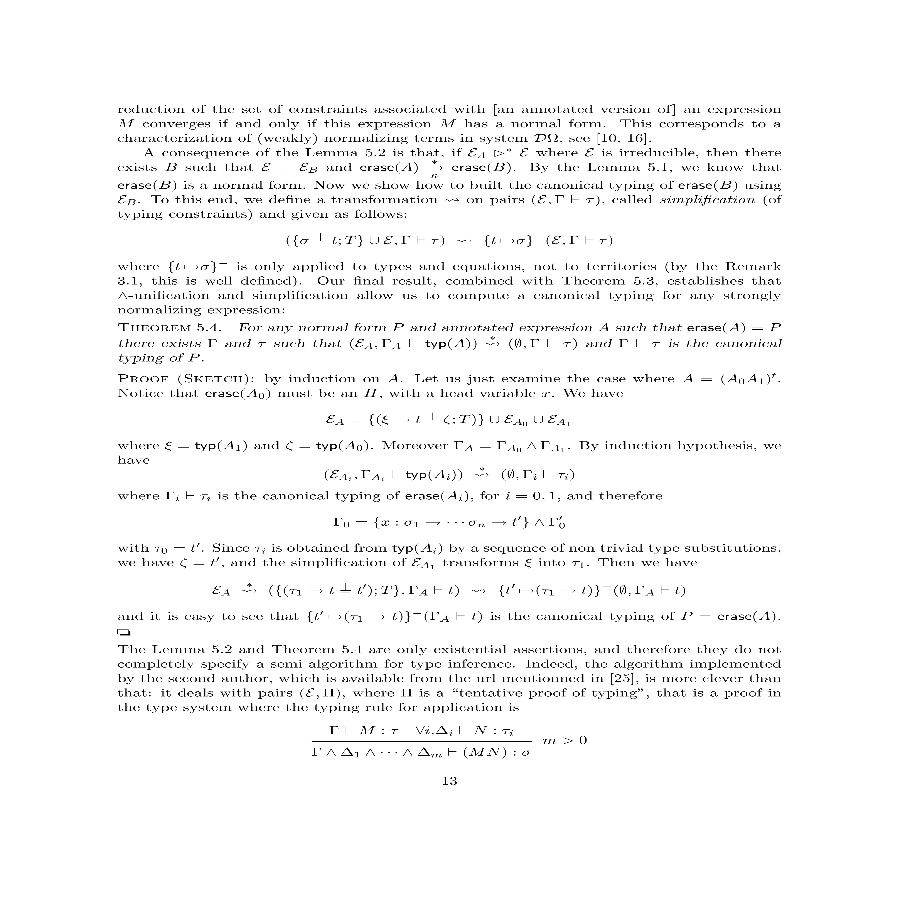eq: (212, 577, 692, 604), (309, 720, 591, 761), (283, 228, 622, 254), (321, 409, 577, 434), (320, 463, 578, 487), (330, 511, 569, 534)
